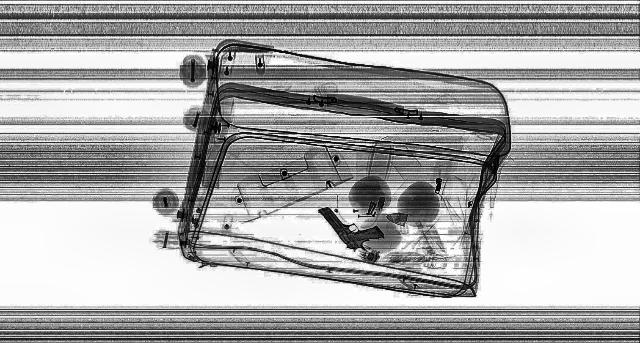Gun: (316, 202, 394, 254)
